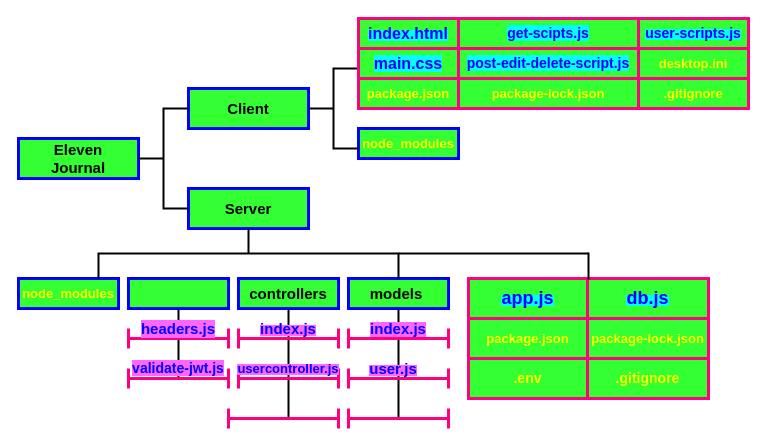
The diagram is 767 pixels wide and 447 high, and some of its shapes have lost their labels. Here are the shapes that lost their labels. From the top down, the centre of each, then its label:
(178,293): middleware
(283,418): journalcontroller.js
(398,418): journal.js
